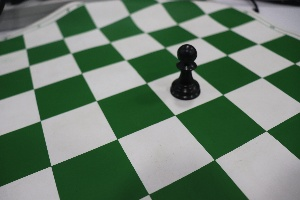black_pawn: (160, 33, 207, 107)
